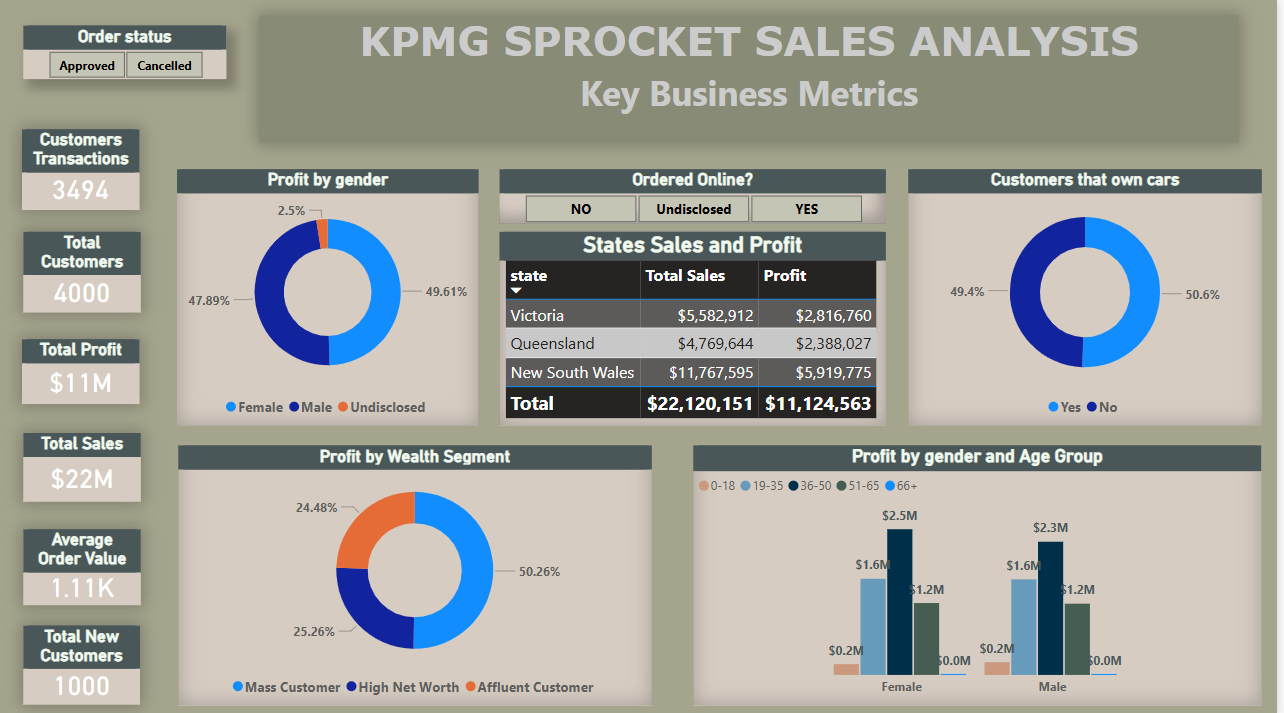

The dashboard page shown, as its layout file describes it:
{"tool":"powerbi","page":{"name":"Page 1","canvas":[1280,720],"ordinal":0},"visuals":[{"type":"card","title":"Total Customers","fields":{"Values":["Customers Demographic.Total Customers"]},"box":[26.1,233.7,118,80.5],"z":0,"group":"g1"},{"type":"donutChart","title":"Profit by gender","fields":{"Category":["Customers Demographic.gender"],"Y":["Transactions.Total Profit"]},"box":[180.3,171.3,301.7,256.3],"z":0},{"type":"card","title":"Total Profit","fields":{"Values":["Transactions.Total Profit"]},"box":[25,341.4,118,64.7],"z":1000,"group":"g1"},{"type":"donutChart","title":"Profit by Wealth Segment","fields":{"Category":["Customers Demographic.wealth_segment"],"Y":["Transactions.Total Profit"]},"box":[180.8,447.5,473.5,260.2],"z":1000},{"type":"tableEx","title":"States Sales and Profit","fields":{"Values":["Customers Address.state","Transactions.Total Sales","Transactions.Total Profit"]},"box":[502.5,233.6,386.8,194],"z":2000},{"type":"card","title":"Total Sales","fields":{"Values":["Transactions.Total Sales"]},"box":[26.1,435.6,118,69.2],"z":2000,"group":"g1"},{"type":"slicer","title":"Order status","fields":{"Values":["Transactions.order_status"]},"box":[26.1,27.2,203,53.3],"z":3000},{"type":"card","title":"Average Order Value","fields":{"Values":["Transactions.Average Order Value"]},"box":[26.1,532,118,76],"z":3000,"group":"g1"},{"type":"slicer","title":"Ordered Online?","fields":{"Values":["Transactions.online_order"]},"box":[502.5,171.3,386.8,54.4],"z":4000},{"type":"card","title":"Total New Customers","fields":{"Values":["Calendar.Total New Customers"]},"box":[26.1,628.4,116.8,79.4],"z":4000,"group":"g1"},{"type":"donutChart","title":"Customers that own cars","fields":{"Category":["Customers Demographic.owns_car"],"Y":["Customers Demographic.Total Customers"]},"box":[910.8,171.3,353.9,256.3],"z":5000},{"type":"clusteredColumnChart","title":"Profit by gender and Age Group","fields":{"Category":["Customers Demographic.gender"],"Series":["Customers Demographic.Age Group"],"Y":["Transactions.Total Profit"]},"box":[696.4,448,568.2,259.7],"z":6000},{"type":"textbox","title":"KPMG SPROCKET SALES ANALYSIS","box":[262.9,16.9,979.2,127.6],"z":7000},{"type":"group","id":"g1","title":"Group 1","box":[25,131.6,119.1,576.2],"z":8000},{"type":"card","title":"Customers Transactions","fields":{"Values":["Transactions.Customers Transactions"]},"box":[25,131.6,118,80.5],"z":8001,"group":"g1"}]}

Visuals, with their boxes in screenshot pixels (x1, y1, x2, y2), scaled from the page's 1280x720 canvas onto the 1284x713 screenshot:
"Total Customers" card: detection(26, 231, 145, 311)
"Profit by gender" donutChart: detection(181, 170, 484, 423)
"Total Profit" card: detection(25, 338, 143, 402)
"Profit by Wealth Segment" donutChart: detection(181, 443, 656, 701)
"States Sales and Profit" tableEx: detection(504, 231, 892, 423)
"Total Sales" card: detection(26, 431, 145, 500)
"Order status" slicer: detection(26, 27, 230, 80)
"Average Order Value" card: detection(26, 527, 145, 602)
"Ordered Online?" slicer: detection(504, 170, 892, 224)
"Total New Customers" card: detection(26, 622, 143, 701)
"Customers that own cars" donutChart: detection(914, 170, 1269, 423)
"Profit by gender and Age Group" clusteredColumnChart: detection(699, 444, 1269, 701)
"KPMG SPROCKET SALES ANALYSIS" textbox: detection(264, 17, 1246, 143)
"Group 1" group: detection(25, 130, 145, 701)
"Customers Transactions" card: detection(25, 130, 143, 210)
